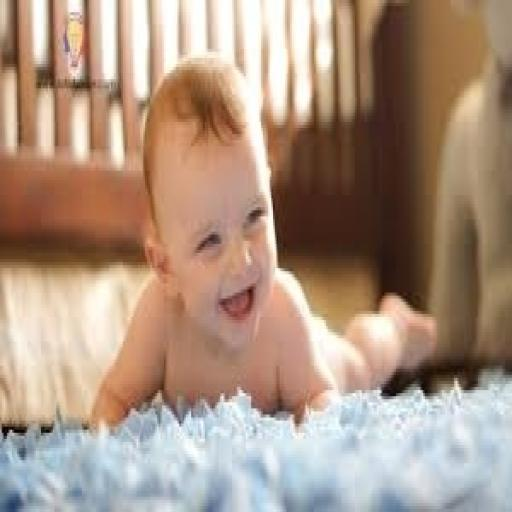laughing: (84, 46, 437, 436)
